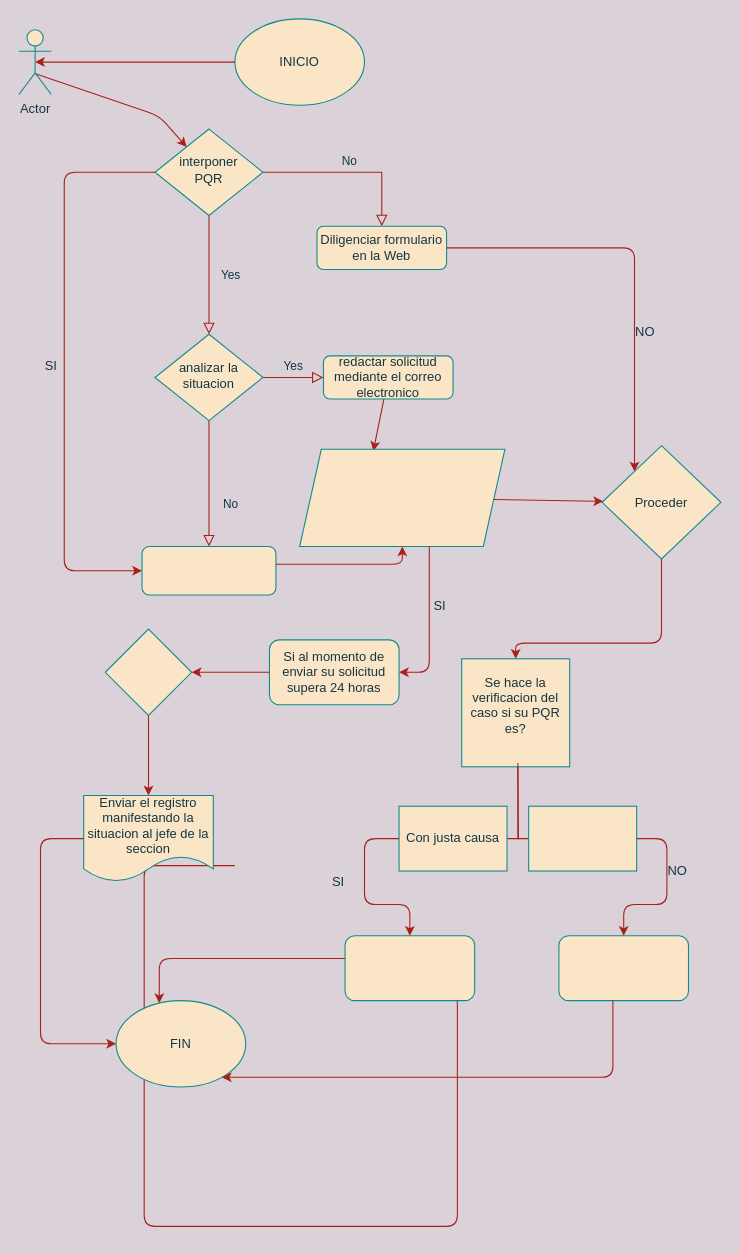
The diagram is 740 pixels wide and 1254 high, and some of its shapes have lost their labels. The centre of each missing label's shape, as x and y in pixels:
"El paso a seguir es" belongs at point (148, 672).
"La PQR se revisa, procesa, se saca conclusion y se busca solucion" belongs at point (402, 497).
"Llamar al call center" belongs at point (208, 570).
"Se aplicaran los correctivos necesarios, y se dara solucion" belongs at point (409, 968).
"Si se determina que no es valida se le aplicara una sancion" belongs at point (623, 968).
"Sin justa causa" belongs at point (582, 838).
